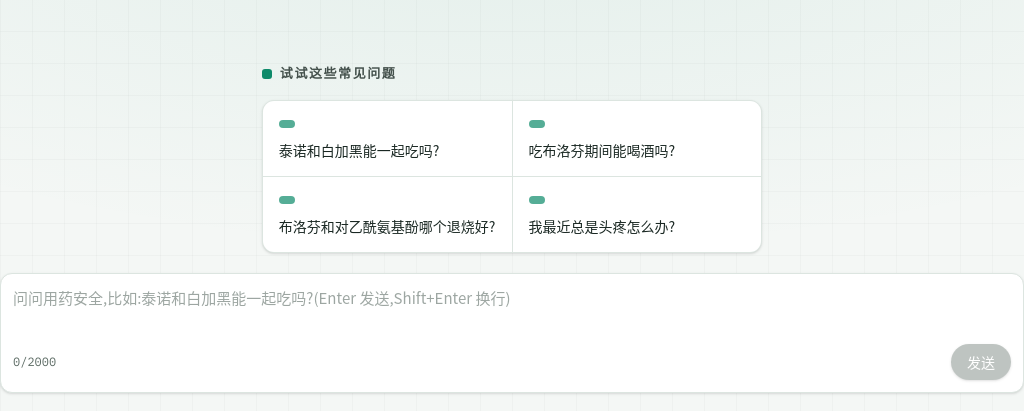
Scenario: ChatView › 点快捷提问 → 渲染回答、引用与免责声明
This screenshot has width=1024, height=411.
What coordinates should you click on to do the following:
click the button "泰诺和白加黑能一起吃吗?"
I would click on:
 (387, 138)
Its box is [263,100,512,176].
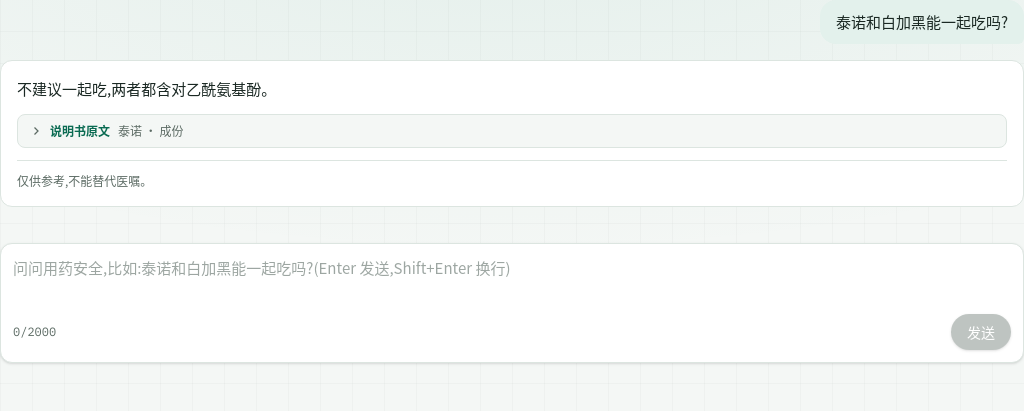
Now the text "不建议一起吃,两者都含对乙酰氨基酚。" is shown, box [17,78,276,99]
Now the text "泰诺 · 成份" is shown, box [118,123,183,139]
Now the text "仅供参考,不能替代医嘱。" is shown, box [17,160,1007,190]
